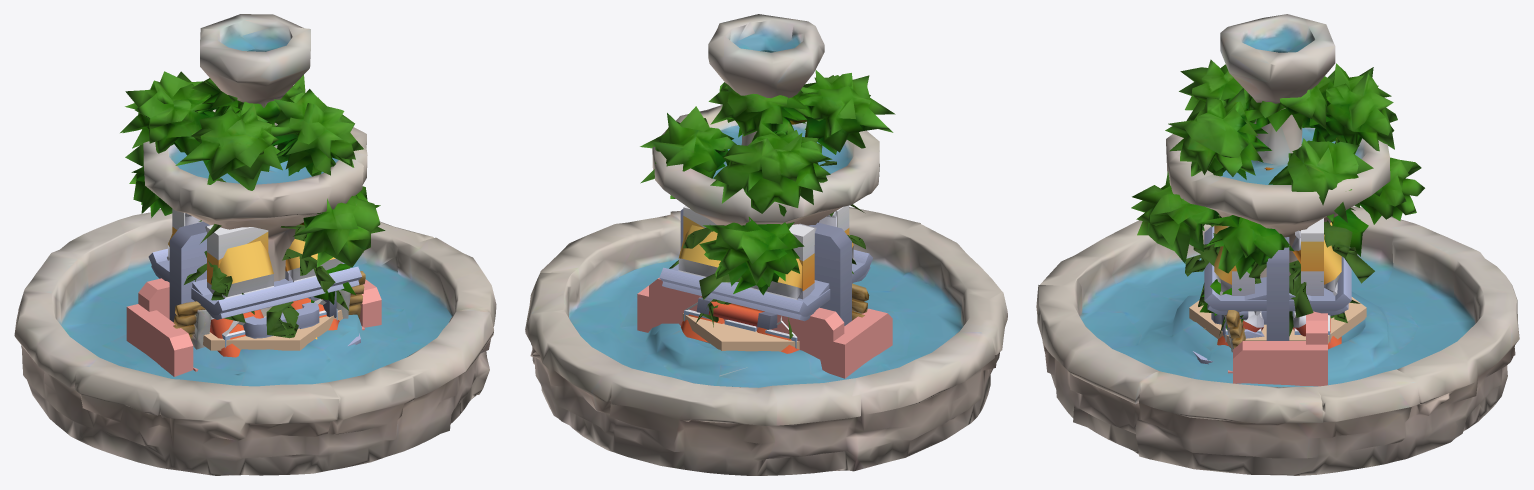
Rendered from props.glb.
3 renders of one model, left to right at view 1: azimuth 30°, elevation 25°; view 2: azimuth 150°, elevation 25°; view 3: azimuth 270°, elevation 25°, orthographic.
Parts seen in each view (by area): view 1: tripo_node_134cbaaf-4670-4825-8cd4-f59d113f9bf5, tripo_node_372ec923-6b8c-436f-bfe3-d535e4c8f5d8, shelf-boxes, loungeSofa(Clone), bag (×3), tripo_node_f85890db-4b5f-4571-87a8-2aa2afb8fddc, tripo_node_33b04e90-58e0-4bff-825d-5aef90048330, tableRound(Clone), box, shelf-bags, shopping-cart; view 2: tripo_node_134cbaaf-4670-4825-8cd4-f59d113f9bf5, tripo_node_372ec923-6b8c-436f-bfe3-d535e4c8f5d8, loungeSofa(Clone), shelf-boxes, tableRound(Clone), bag (×2), tripo_node_f85890db-4b5f-4571-87a8-2aa2afb8fddc, shopping-cart, box, shelf-bags; view 3: tripo_node_134cbaaf-4670-4825-8cd4-f59d113f9bf5, tripo_node_372ec923-6b8c-436f-bfe3-d535e4c8f5d8, loungeSofa(Clone), shelf-boxes, tripo_node_f85890db-4b5f-4571-87a8-2aa2afb8fddc, box (×2), tableRound(Clone), bag, shelf-bags, tripo_node_33b04e90-58e0-4bff-825d-5aef90048330.
Part boxes in pixels (x1=…): tripo_node_134cbaaf-4670-4825-8cd4-f59d113f9bf5: x1=14, y1=14, x2=496, y2=475; tripo_node_372ec923-6b8c-436f-bfe3-d535e4c8f5d8: x1=120, y1=71, x2=385, y2=304; shelf-boxes: x1=148, y1=221, x2=361, y2=322; loungeSofa(Clone): x1=126, y1=278, x2=381, y2=376; bag (×3): x1=205, y1=225, x2=342, y2=357; tripo_node_f85890db-4b5f-4571-87a8-2aa2afb8fddc: x1=184, y1=178, x2=348, y2=338; tripo_node_33b04e90-58e0-4bff-825d-5aef90048330: x1=173, y1=271, x2=365, y2=349; tableRound(Clone): x1=203, y1=310, x2=342, y2=350; box: x1=207, y1=225, x2=268, y2=293; shelf-bags: x1=151, y1=265, x2=359, y2=319; shopping-cart: x1=243, y1=302, x2=319, y2=338; tripo_node_134cbaaf-4670-4825-8cd4-f59d113f9bf5: x1=525, y1=14, x2=1007, y2=475; tripo_node_372ec923-6b8c-436f-bfe3-d535e4c8f5d8: x1=640, y1=70, x2=895, y2=295; loungeSofa(Clone): x1=637, y1=278, x2=892, y2=378; shelf-boxes: x1=659, y1=209, x2=872, y2=325; tableRound(Clone): x1=682, y1=311, x2=854, y2=351; bag (×2): x1=678, y1=223, x2=816, y2=300; tripo_node_f85890db-4b5f-4571-87a8-2aa2afb8fddc: x1=669, y1=161, x2=865, y2=339; shopping-cart: x1=696, y1=297, x2=777, y2=329; box: x1=789, y1=224, x2=814, y2=299; shelf-bags: x1=662, y1=267, x2=870, y2=321; tripo_node_134cbaaf-4670-4825-8cd4-f59d113f9bf5: x1=1036, y1=14, x2=1519, y2=475; tripo_node_372ec923-6b8c-436f-bfe3-d535e4c8f5d8: x1=1131, y1=59, x2=1424, y2=329; loungeSofa(Clone): x1=1228, y1=311, x2=1327, y2=386; shelf-boxes: x1=1204, y1=226, x2=1351, y2=340; tripo_node_f85890db-4b5f-4571-87a8-2aa2afb8fddc: x1=1185, y1=144, x2=1374, y2=336; box (×2): x1=1232, y1=218, x2=1323, y2=295; tableRound(Clone): x1=1189, y1=297, x2=1366, y2=347; bag: x1=1292, y1=230, x2=1341, y2=295; shelf-bags: x1=1207, y1=277, x2=1348, y2=315; tripo_node_33b04e90-58e0-4bff-825d-5aef90048330: x1=1224, y1=310, x2=1245, y2=352.
Bounding box in the file's own units: 4.4 × 3.51 × 4.45.
Materials: 14 (7 with a texture image).
